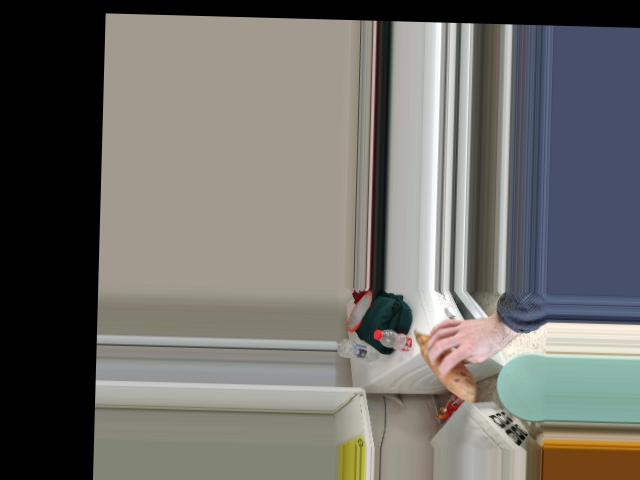sweet_potato: (415, 325, 476, 398)
